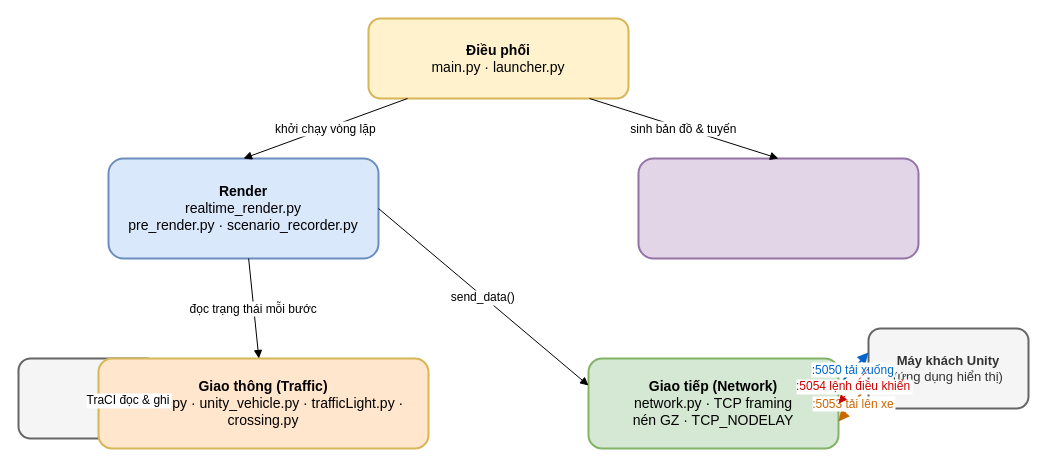
This 1046x466 diagram has some shape labels left out. Each missing label, with the box of its shape:
Bản đồ & tuyến route_gen.py create_map_from_maze.py · naive_map_creator.py: (637, 157, 919, 259)
SUMO / TraCI (trình mô phỏng ngoài): (17, 357, 159, 439)
